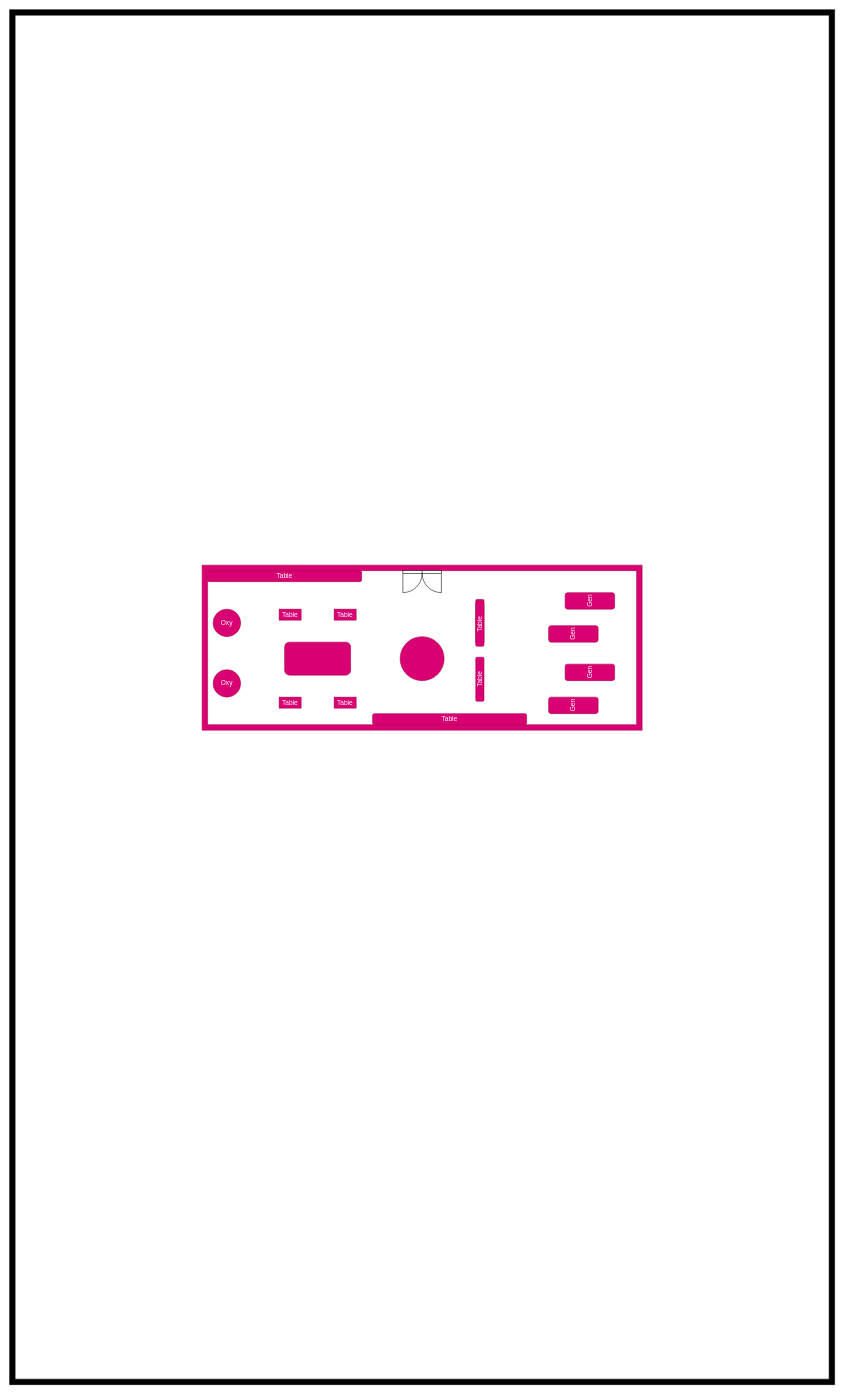
This 844x1394 diagram has some shape labels left out. Each missing label, with the centre of its shape:
Pillar: [422,658]
Wall: [317,658]
